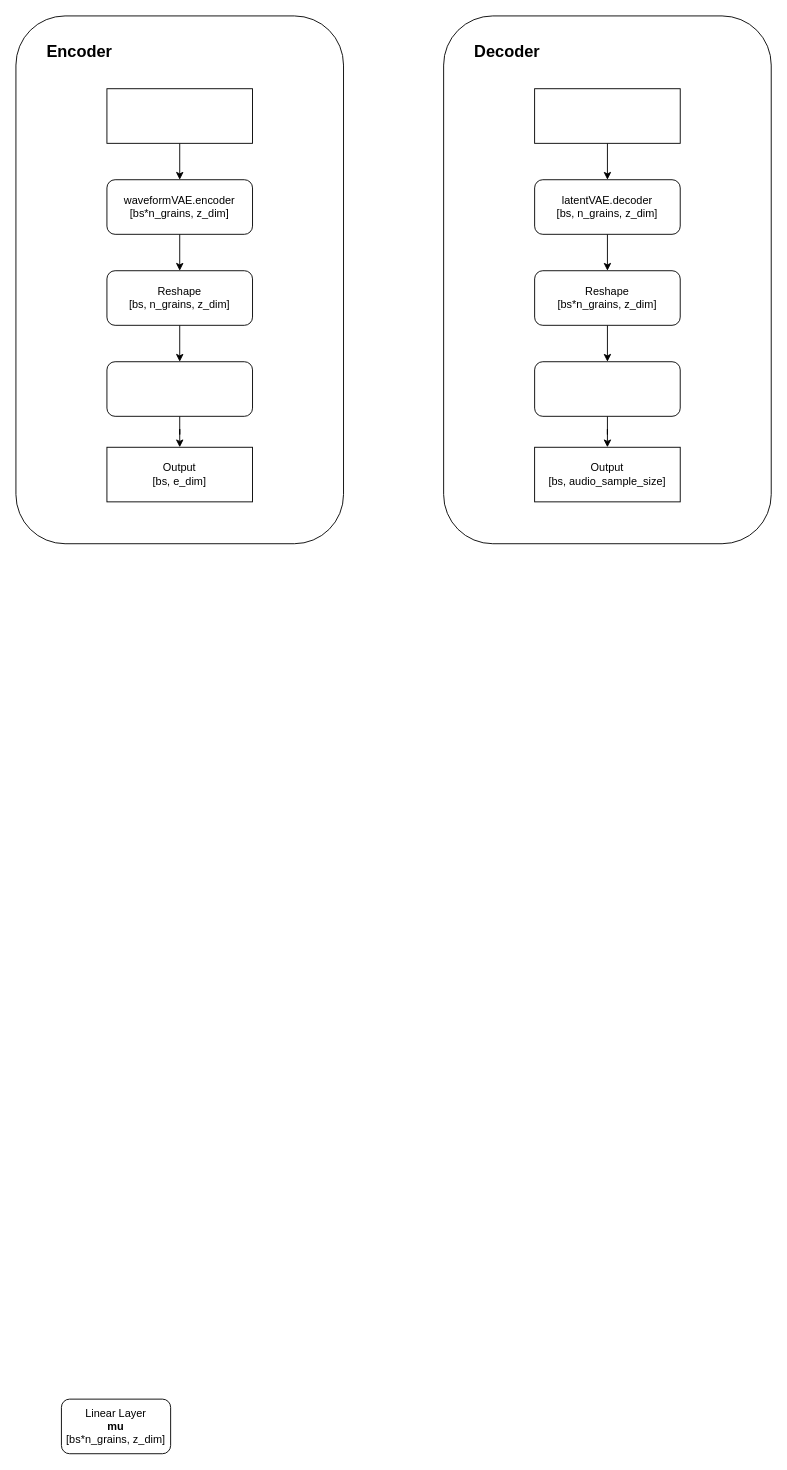
Image size: 787x1470. Some labels were removed from this diagram. Here are the shapes that lost their labels. From the top down, the centre of each, then its label:
[179,115]: Input [bs, audio_sample_size]
[607,115]: Input e, conditioning [bs, e_dim], [bs]
[179,388]: latentVAE.encoder [bs, e_dim]
[607,388]: waveformVAE.decoder [bs, audio_sample_size]
